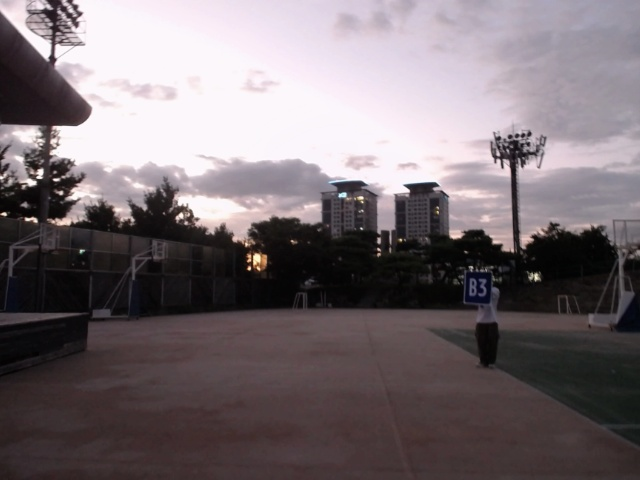delivery_b3: (464, 270, 494, 307)
